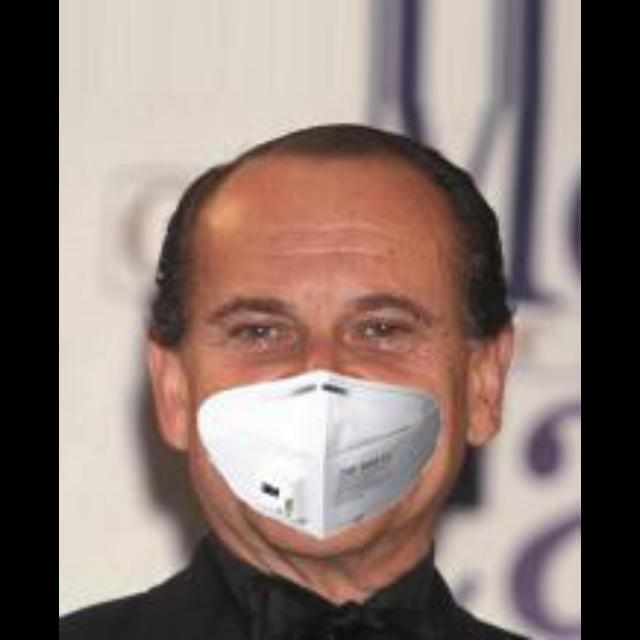suspicion: (108, 115, 536, 528)
